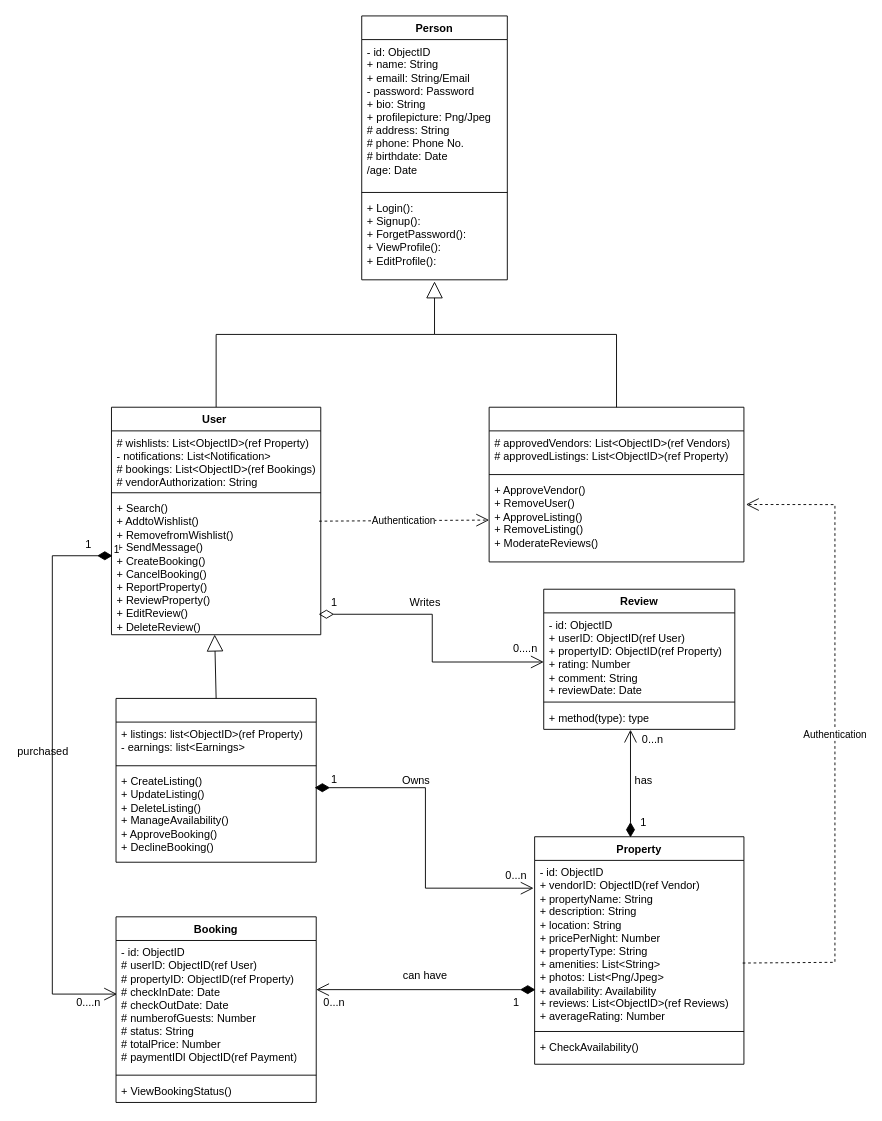
Image size: 882x1121. Some labels were removed from this diagram. The shapes that lost their labels are listed below. From the top down, each one's box as (x1, y1, x2, y2) in pixels, then its label:
(488, 406, 744, 562): Admin
(115, 698, 316, 862): Vendor
